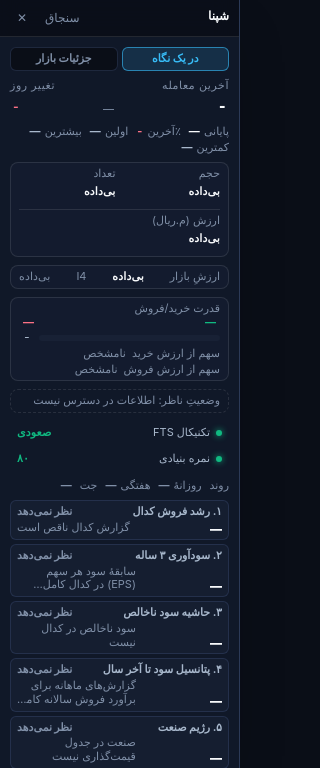
Test case: سایدبار بازرسی نماد › صفحۀ «در یک نگاه»: گیج، دو چراغ، قدرت خرید/فروش و حجم/ارزش
Check: the text "نمره بنیادی" is shown, box [159,452,222,466]
Check: the text "تکنیکال FTS" is shown, box [153,426,222,440]
Click the button with test id "inspector-tab-detail" at (64, 59), box [10,47,118,71]
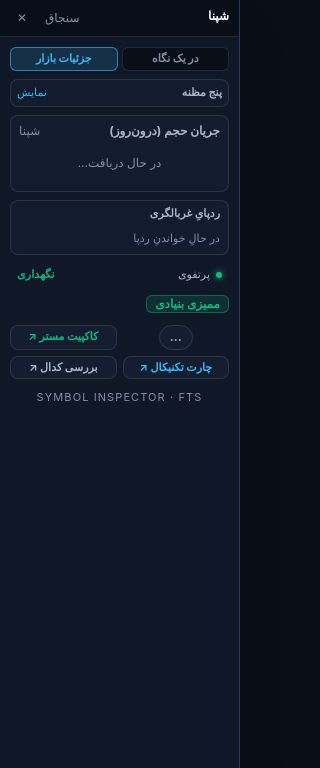
Check: the text "پرتفوی" is shown, box [178,268,222,282]
Check: the text "نگهداری" is shown, box [17,268,55,282]
